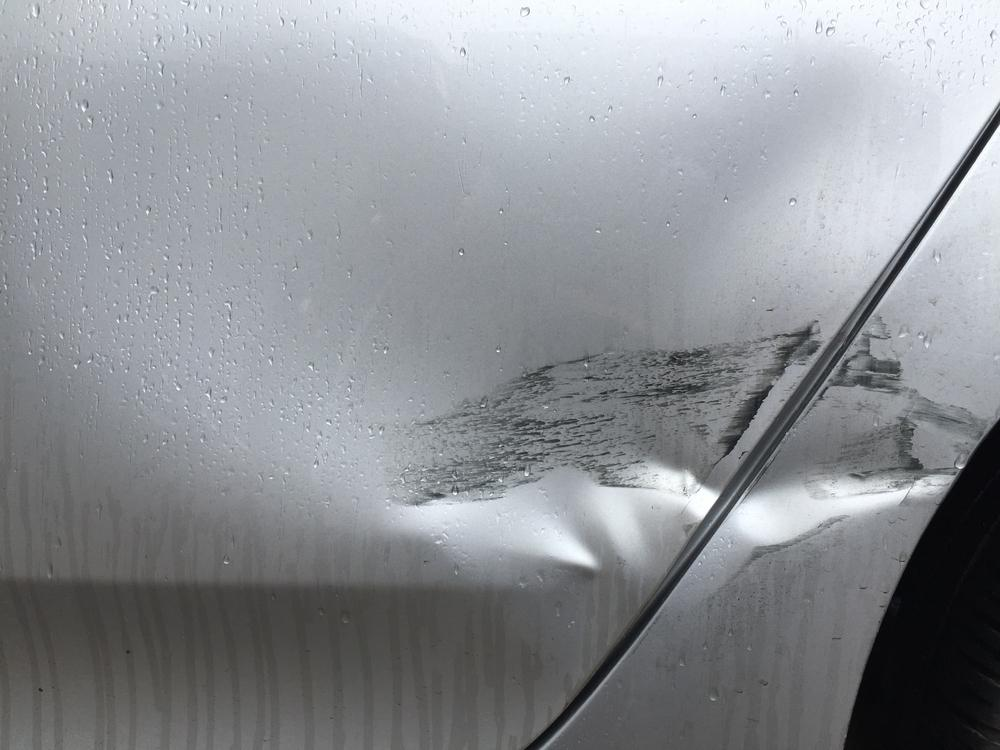dent: (353, 301, 822, 571), (736, 323, 985, 545)
